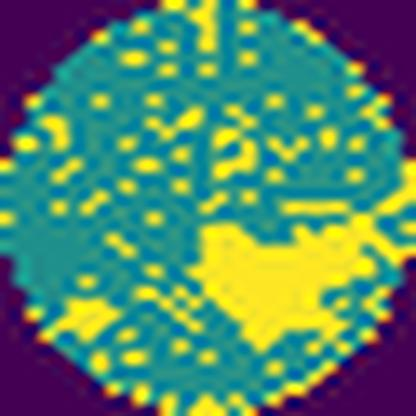Loc: (187, 210, 410, 360), (56, 288, 122, 341)
